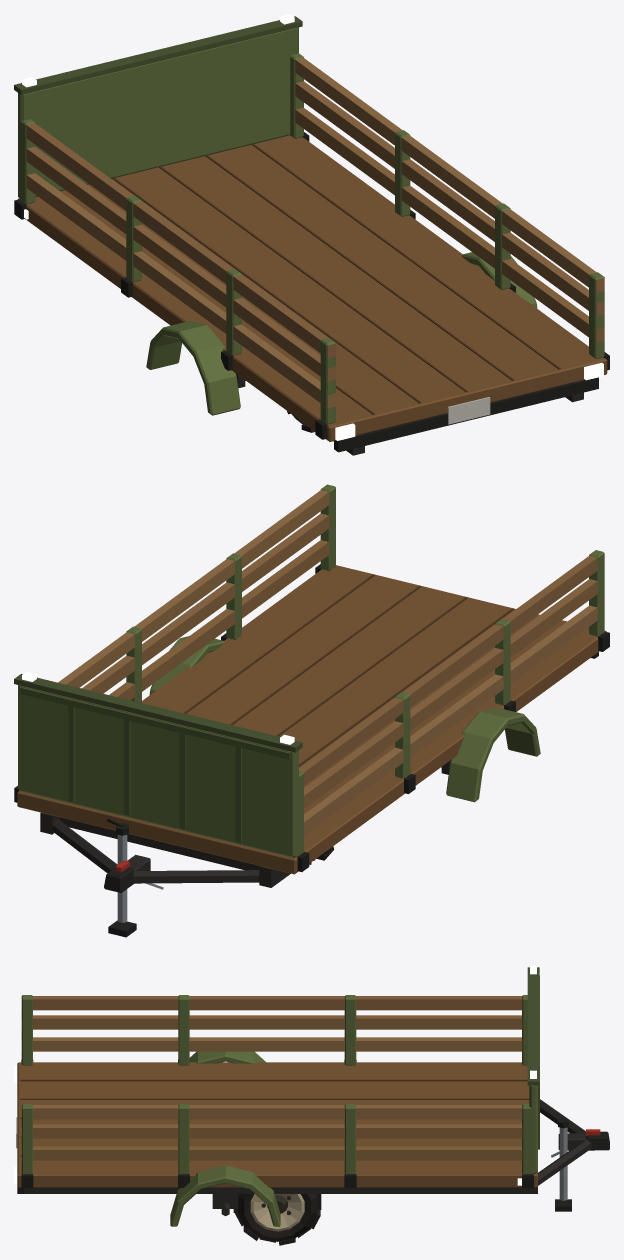
File: RanchTrailer_Flatbed.glb
The picture shows the model from 3 angles, top to bottom: view 1: azimuth 30°, elevation 25°; view 2: azimuth 150°, elevation 25°; view 3: azimuth 270°, elevation 25°; orthographic projection. The views are drawn at different scales.
Visible parts, largest first — view 1: Bed, Body, Lights; view 2: Bed, Body, Hitch; view 3: Bed, Body, Wheel, Hitch.
Boxes of the visible parts, x1=… form: Bed: x1=14, y1=16, x2=609, y2=441; Body: x1=146, y1=252, x2=598, y2=455; Lights: x1=22, y1=14, x2=603, y2=440; Bed: x1=14, y1=484, x2=609, y2=874; Body: x1=40, y1=636, x2=598, y2=887; Hitch: x1=52, y1=818, x2=259, y2=937; Bed: x1=17, y1=967, x2=539, y2=1187; Body: x1=16, y1=1051, x2=537, y2=1226; Wheel: x1=233, y1=1194, x2=321, y2=1245; Hitch: x1=538, y1=1099, x2=609, y2=1211.
Bounding box in the file's own units: 11.09 × 8.51 × 20.84.
